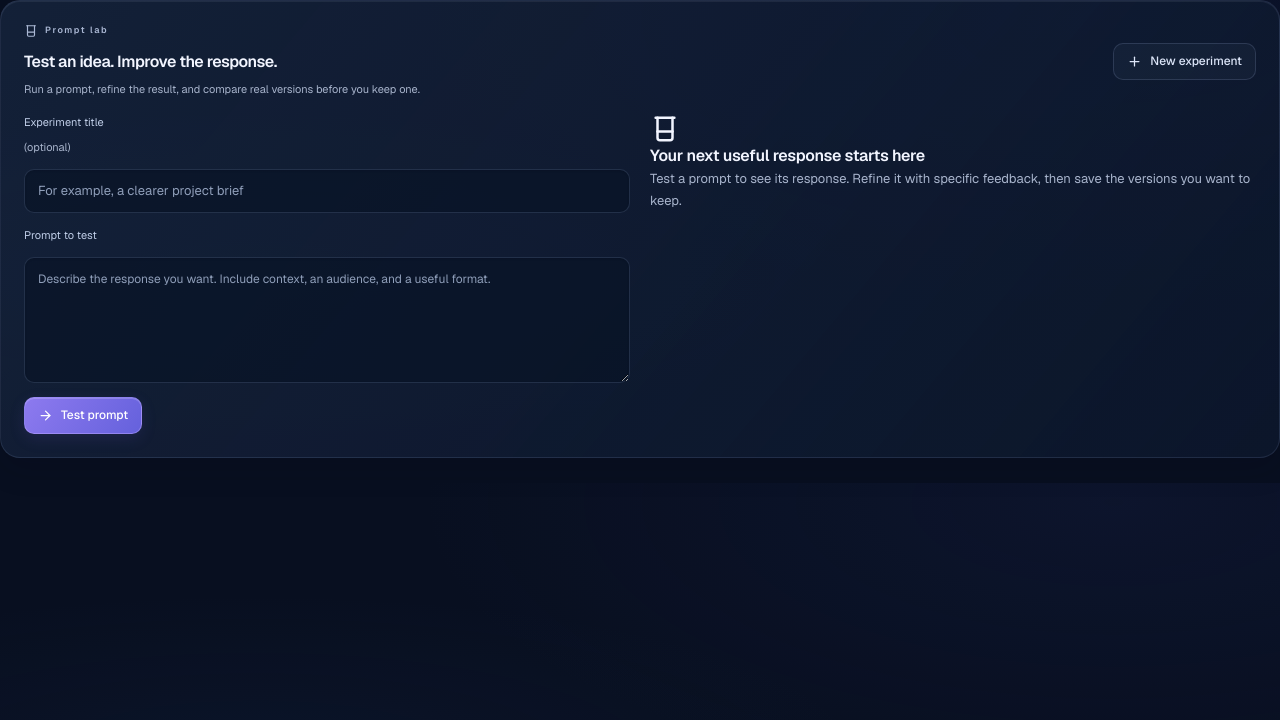
Test case: prompt experiment workspace › rejects a short prompt without spending a provider request
Click the button "Test prompt" at (83, 416), box top-left (24, 397), bottom-right (142, 434)
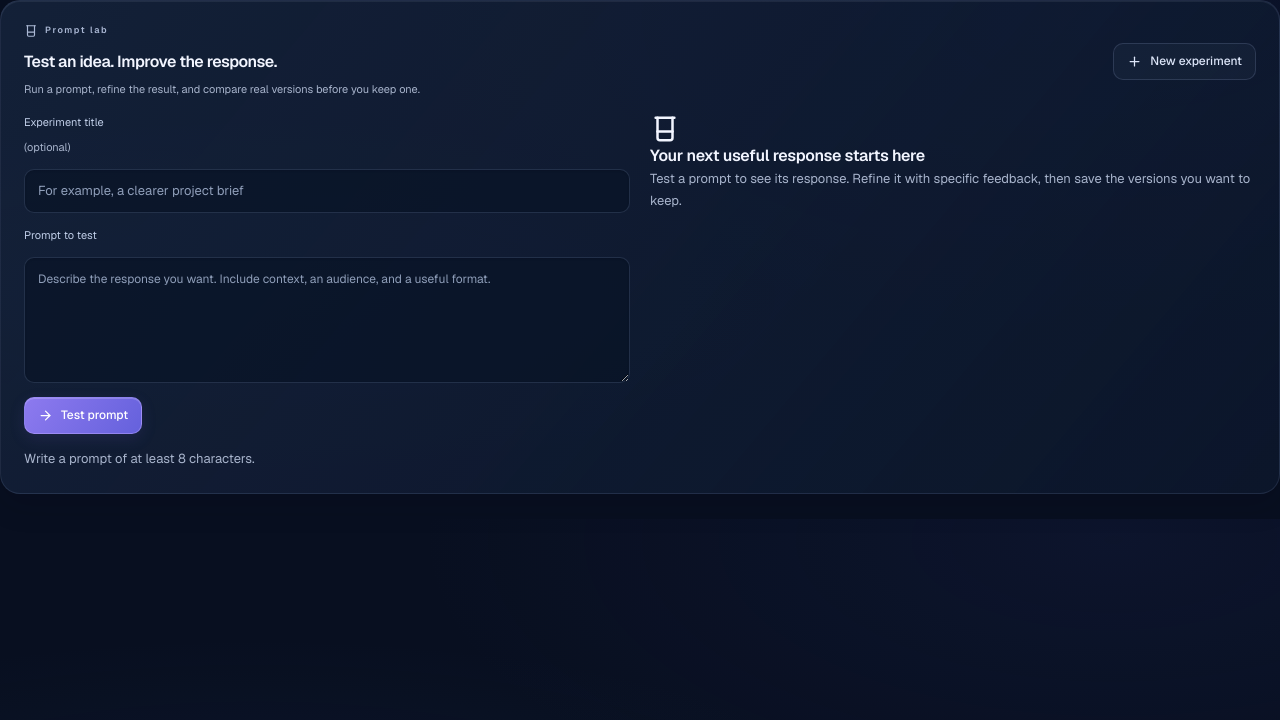
Check: the message shows "at least 8 characters", box top-left (24, 450), bottom-right (255, 467)
